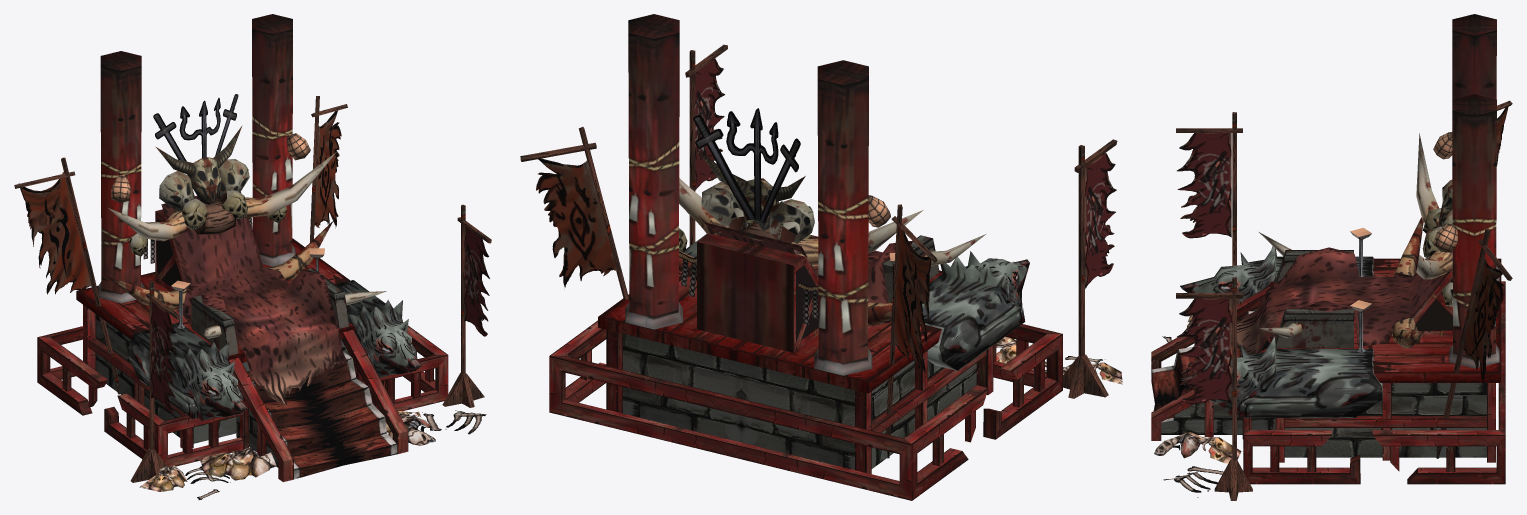
Rendered from STR_WolfThrone.FBX.
The picture shows the model from 3 angles, left to right: view 1: azimuth 30°, elevation 25°; view 2: azimuth 150°, elevation 25°; view 3: azimuth 270°, elevation 25°; orthographic projection. The views are drawn at different scales.
Visible parts, largest first — view 1: STR_WolfThrone; view 2: STR_WolfThrone; view 3: STR_WolfThrone.
Boxes of the visible parts, left/top/right/bottom form: STR_WolfThrone: left=14, top=14, right=491, bottom=499; STR_WolfThrone: left=520, top=14, right=1122, bottom=500; STR_WolfThrone: left=1151, top=14, right=1512, bottom=500.
Bounding box in the file's own units: 1268 × 1089 × 1032.
2 materials, 2 textured.
